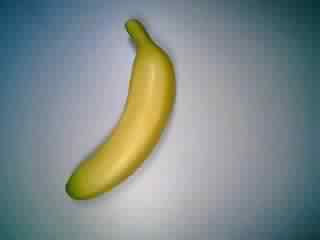banana: (63, 13, 184, 204)
